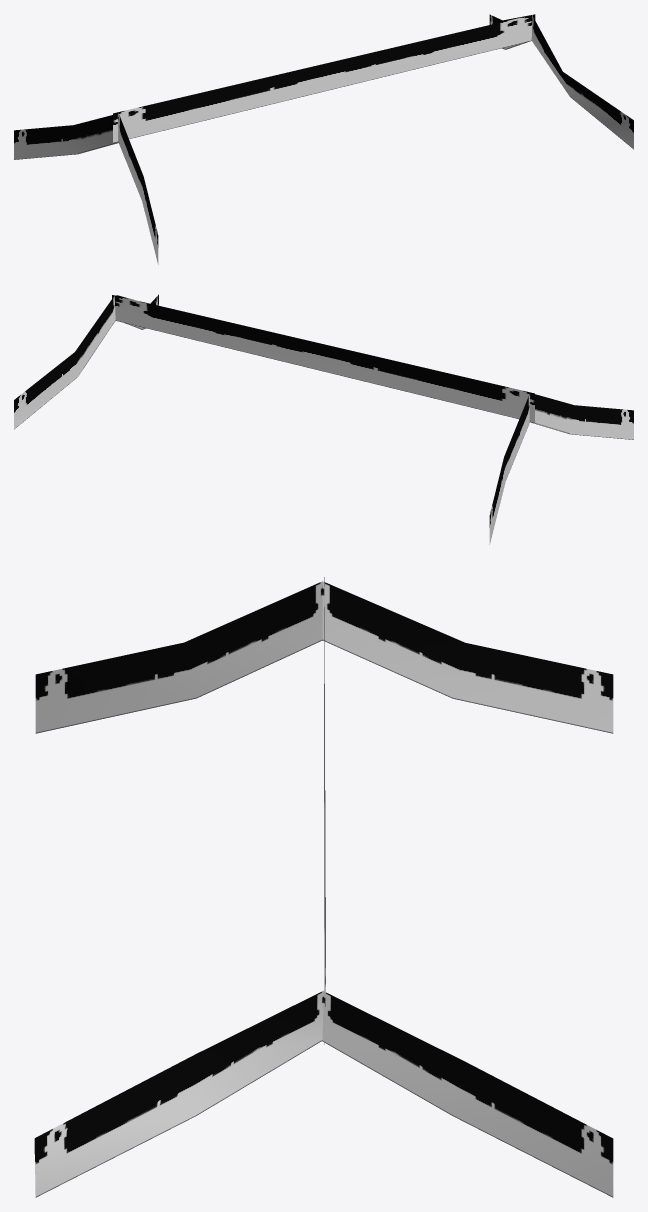
3 renders of one model, top to bottom at view 1: azimuth 30°, elevation 25°; view 2: azimuth 150°, elevation 25°; view 3: azimuth 270°, elevation 25°, orthographic. The views are drawn at different scales.
Visible parts, largest first — view 1: wy10; view 2: wy10; view 3: wy10.
Part boxes in pixels (box(x1,y1,x2,y2)): wy10: box(14, 14, 633, 264); wy10: box(14, 294, 633, 544); wy10: box(34, 577, 613, 1197).
Size of the model in its own units: 550 by 103 by 290.
